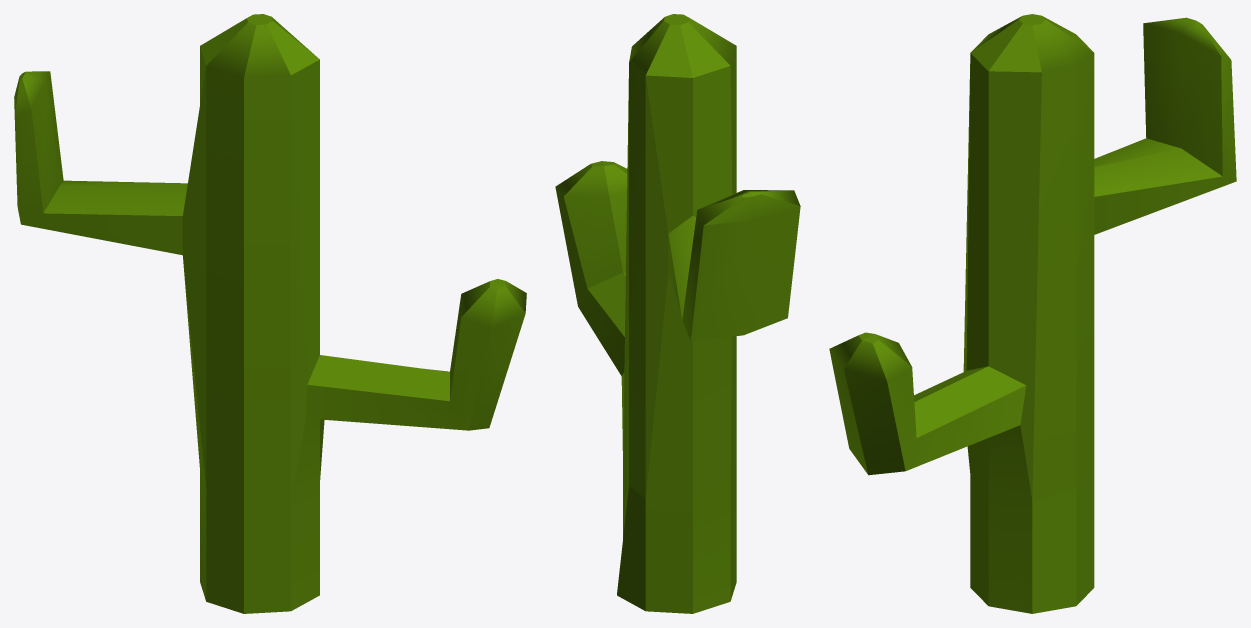
File: DesertCactus1.fbx
3 renders of one model, left to right at view 1: azimuth 30°, elevation 25°; view 2: azimuth 150°, elevation 25°; view 3: azimuth 270°, elevation 25°, orthographic.
Visible parts, largest first — view 1: pCylinder44; view 2: pCylinder44; view 3: pCylinder44.
Part boxes in pixels (x1,y1,x2,y2): pCylinder44: (14, 14, 526, 613); pCylinder44: (555, 14, 800, 613); pCylinder44: (829, 14, 1236, 613).
Bounding box in the file's own units: 5.41 × 7.76 × 5.05.
